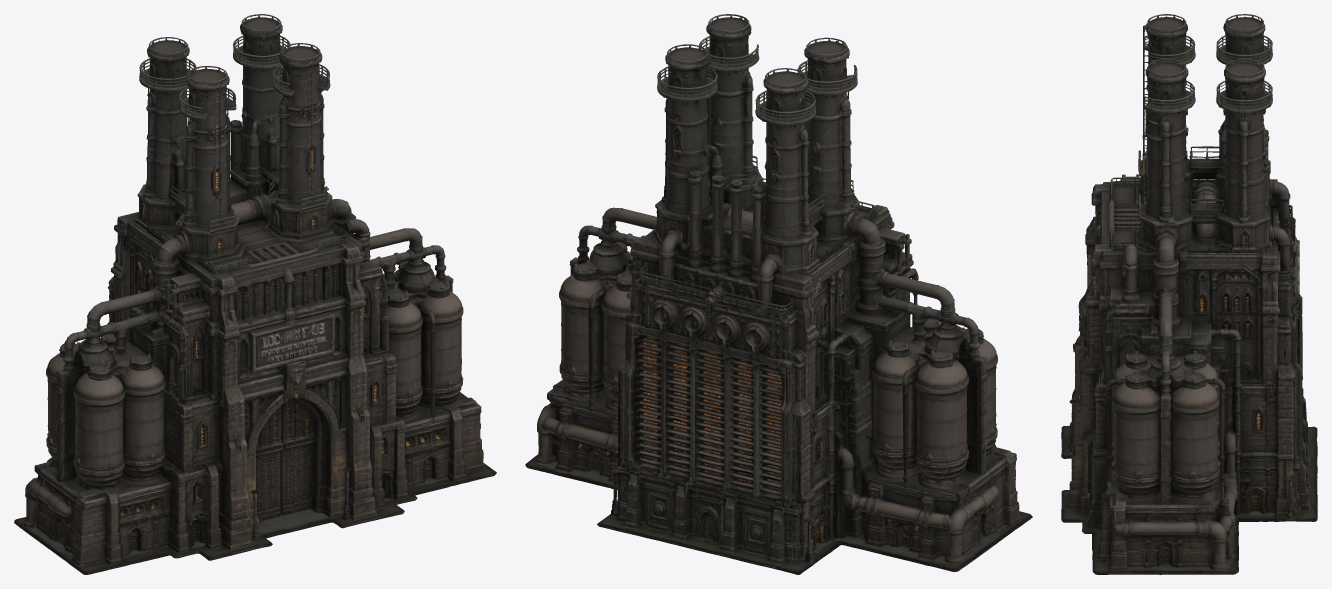
File: industrial_fortress.glb
The picture shows the model from 3 angles, left to right: view 1: azimuth 30°, elevation 25°; view 2: azimuth 150°, elevation 25°; view 3: azimuth 270°, elevation 25°; orthographic projection. The views are drawn at different scales.
Bounding box in the file's own units: 0.9762 × 0.982 × 0.5295.
Materials: 1 (1 with a texture image).
